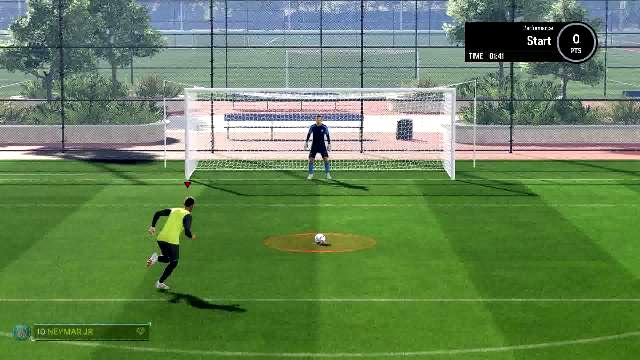bottom-left: (190, 139, 274, 180)
bottom-right: (362, 137, 448, 179)
center-down: (276, 137, 364, 179)
center-up: (276, 93, 366, 137)
circle: (264, 231, 374, 253)
football: (312, 234, 328, 246)
goalkeeper: (304, 114, 338, 180)
player: (146, 196, 198, 294)
top-left: (190, 93, 274, 137)
top-right: (366, 94, 452, 138)
